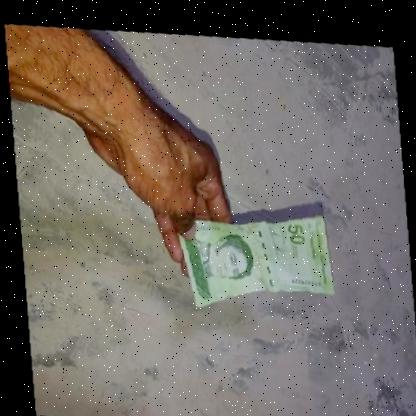fifty-front-vef: (172, 192, 336, 319)
